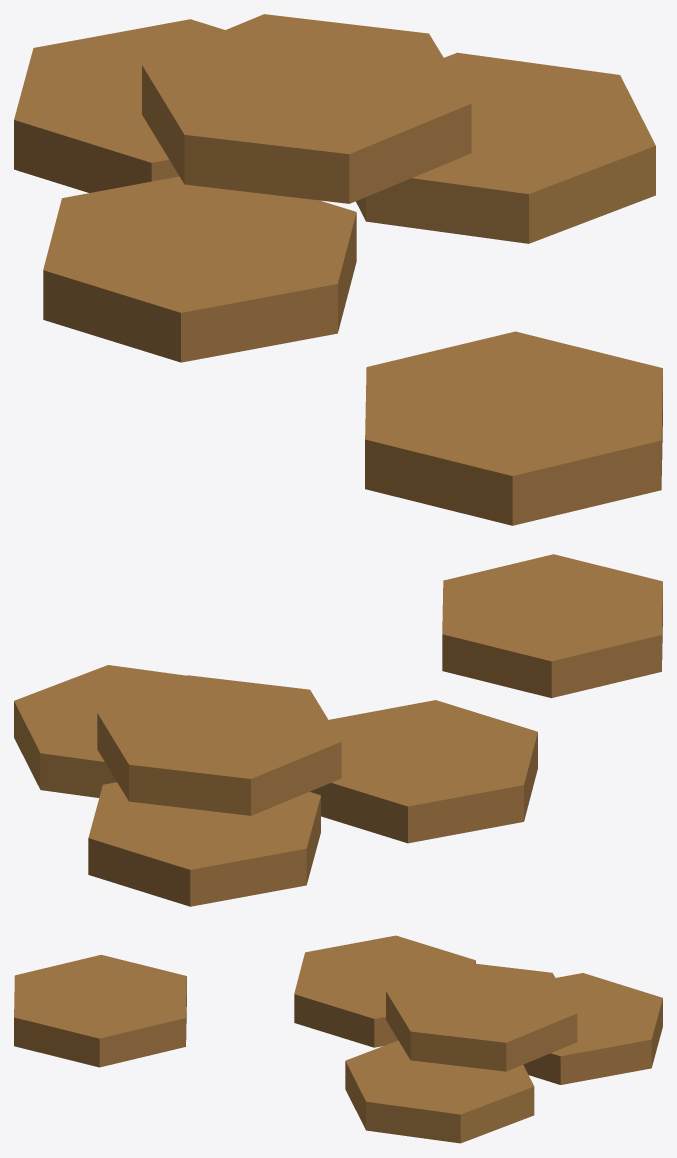
Rendered from SM_Item_Coins_02.glb.
3 renders of one model, top to bottom at view 1: azimuth 30°, elevation 25°; view 2: azimuth 150°, elevation 25°; view 3: azimuth 270°, elevation 25°, orthographic. The views are drawn at different scales.
Visible parts, largest first — view 1: SM_Item_Coins_02; view 2: SM_Item_Coins_02; view 3: SM_Item_Coins_02.
Boxes of the visible parts, bbox=[...] form: SM_Item_Coins_02: bbox=[14, 14, 662, 525]; SM_Item_Coins_02: bbox=[14, 554, 662, 906]; SM_Item_Coins_02: bbox=[14, 935, 662, 1143].
Bounding box in the file's own units: 0.00181 × 0.000272 × 0.00277.
